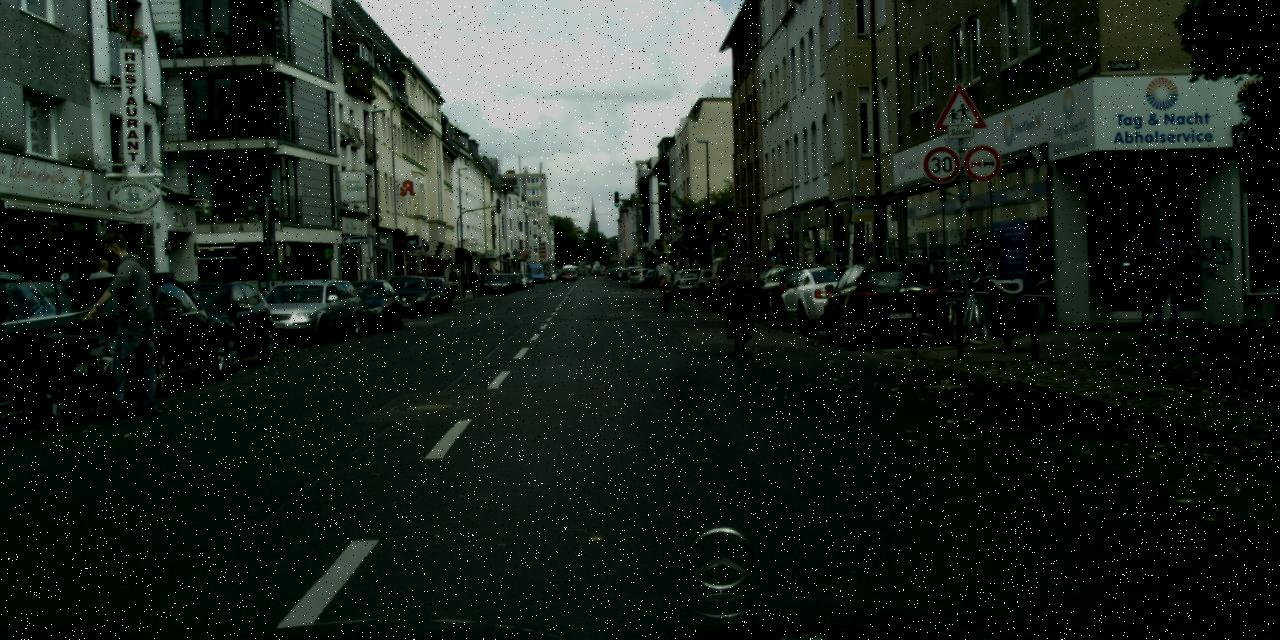ped: (82, 231, 158, 417), (1147, 222, 1189, 327), (83, 259, 123, 355), (724, 245, 759, 332), (656, 257, 673, 301), (468, 268, 479, 296), (448, 269, 458, 291), (548, 270, 552, 280)
